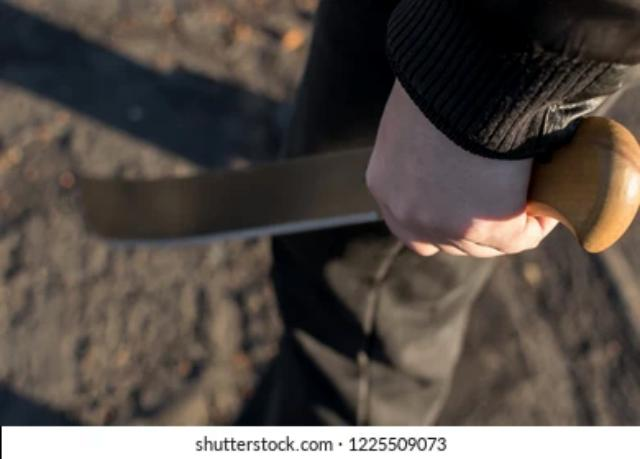long knife: (48, 118, 640, 272)
